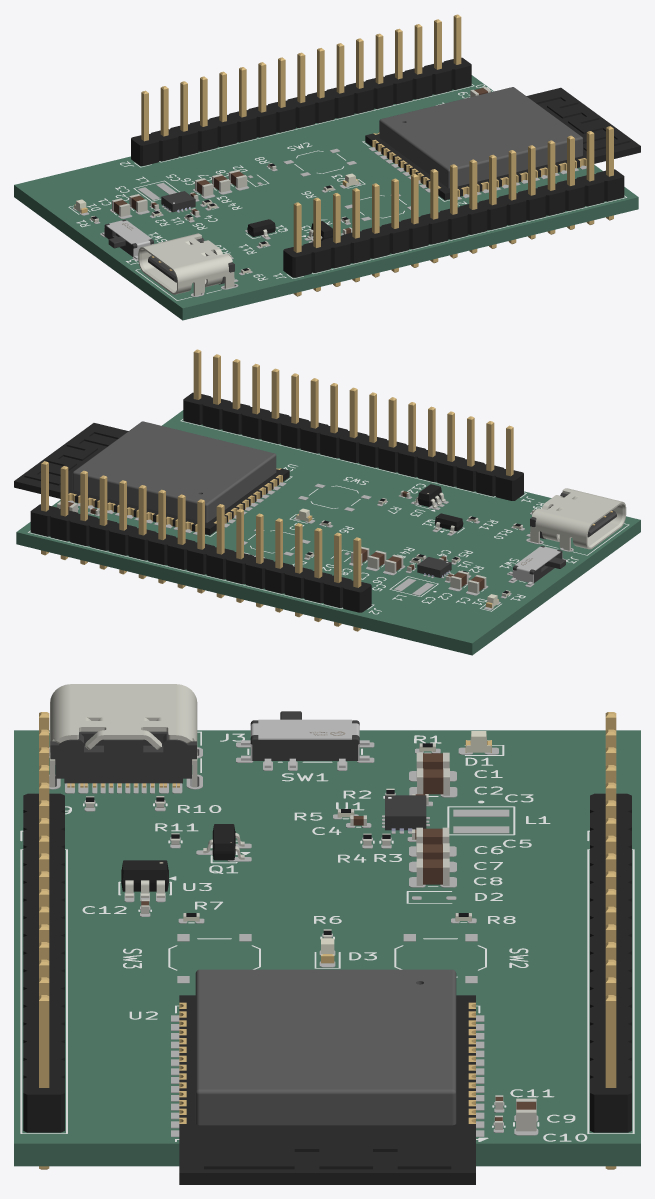
Rendered from assembly.glb.
The picture shows the model from 3 angles, top to bottom: view 1: azimuth 30°, elevation 25°; view 2: azimuth 150°, elevation 25°; view 3: azimuth 270°, elevation 25°; orthographic projection. The views are drawn at different scales.
Visible parts, largest first — view 1: =>[0:1:1:15], J1, J2, U2, J3, =>[0:1:1:14], =>[0:1:1:13], SW1, U1; view 2: =>[0:1:1:15], J2, J1, U2, J3, =>[0:1:1:14], =>[0:1:1:13], SW1, U1, U3; view 3: =>[0:1:1:15], U2, J2, J1, J3, =>[0:1:1:14], =>[0:1:1:13], SW1, U3, U1, Q1, C8 (+2 smaller).
Boxes of the visible parts, x1,y1,x2,y2 form: =>[0:1:1:15]: (14,75,638,320); J1: (283,126,624,296); J2: (131,14,471,165); U2: (365,87,640,200); J3: (138,233,234,295); =>[0:1:1:14]: (68,84,626,300); =>[0:1:1:13]: (72,147,586,296); SW1: (102,219,153,259); U1: (161,191,195,212); =>[0:1:1:15]: (16,410,640,655); J2: (30,461,371,631); J1: (183,349,523,500); U2: (14,421,289,535); J3: (530,488,626,550); =>[0:1:1:14]: (28,419,629,614); =>[0:1:1:13]: (68,482,573,610); SW1: (508,546,565,585); U1: (417,557,451,577); U3: (414,484,445,508); =>[0:1:1:15]: (14,730,640,1166); U2: (179,969,475,1184); J2: (590,712,631,1169); J1: (23,712,64,1169); J3: (50,684,197,787); =>[0:1:1:14]: (20,731,634,1141); =>[0:1:1:13]: (49,742,538,1136); SW1: (241,711,369,767); U3: (121,860,168,897); U1: (385,795,426,831); Q1: (203,824,244,860); C8: (416,858,449,885).
Size of the model in its own units: 0.0654 by 0.0115 by 0.038.
